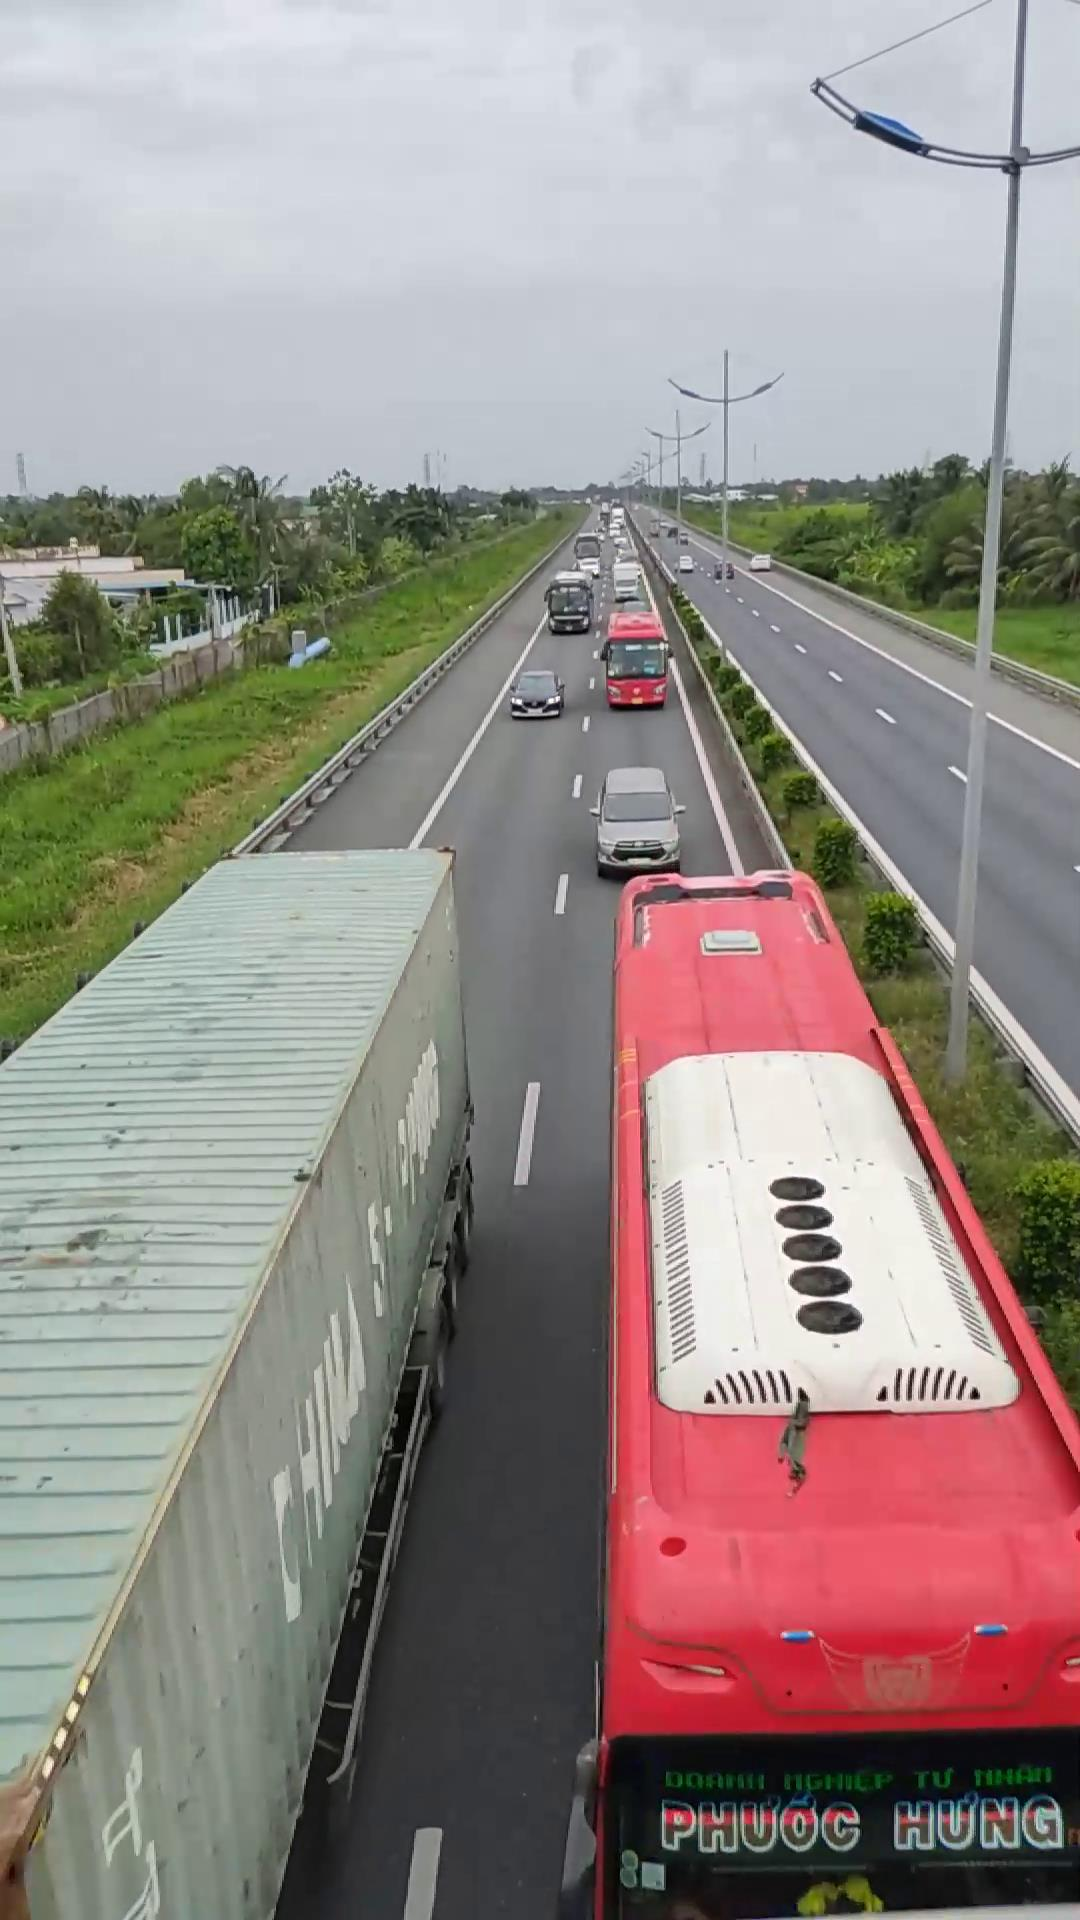bus: (589, 866, 1076, 1909)
car: (584, 766, 683, 877)
container: (0, 857, 472, 1919)
